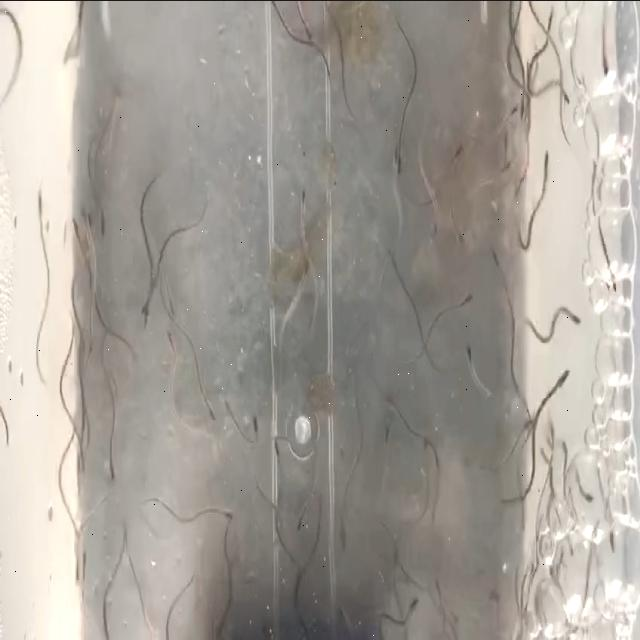active_glass_eel: (426, 185, 458, 240), (388, 236, 418, 294), (443, 273, 472, 333), (72, 170, 90, 258), (78, 316, 100, 380), (540, 159, 560, 226), (290, 179, 316, 230), (446, 126, 470, 180), (201, 368, 220, 436), (240, 408, 262, 463), (136, 258, 152, 332), (161, 274, 181, 332), (491, 156, 513, 204), (554, 292, 580, 332), (268, 430, 288, 482), (60, 10, 82, 56), (104, 435, 125, 483), (34, 189, 54, 239), (214, 483, 232, 538), (548, 364, 576, 399), (376, 432, 403, 468), (298, 255, 320, 297), (390, 136, 410, 182), (400, 569, 418, 620), (459, 351, 478, 399), (507, 80, 523, 135), (94, 202, 112, 250), (558, 82, 572, 130), (290, 502, 308, 536), (544, 18, 557, 41)
